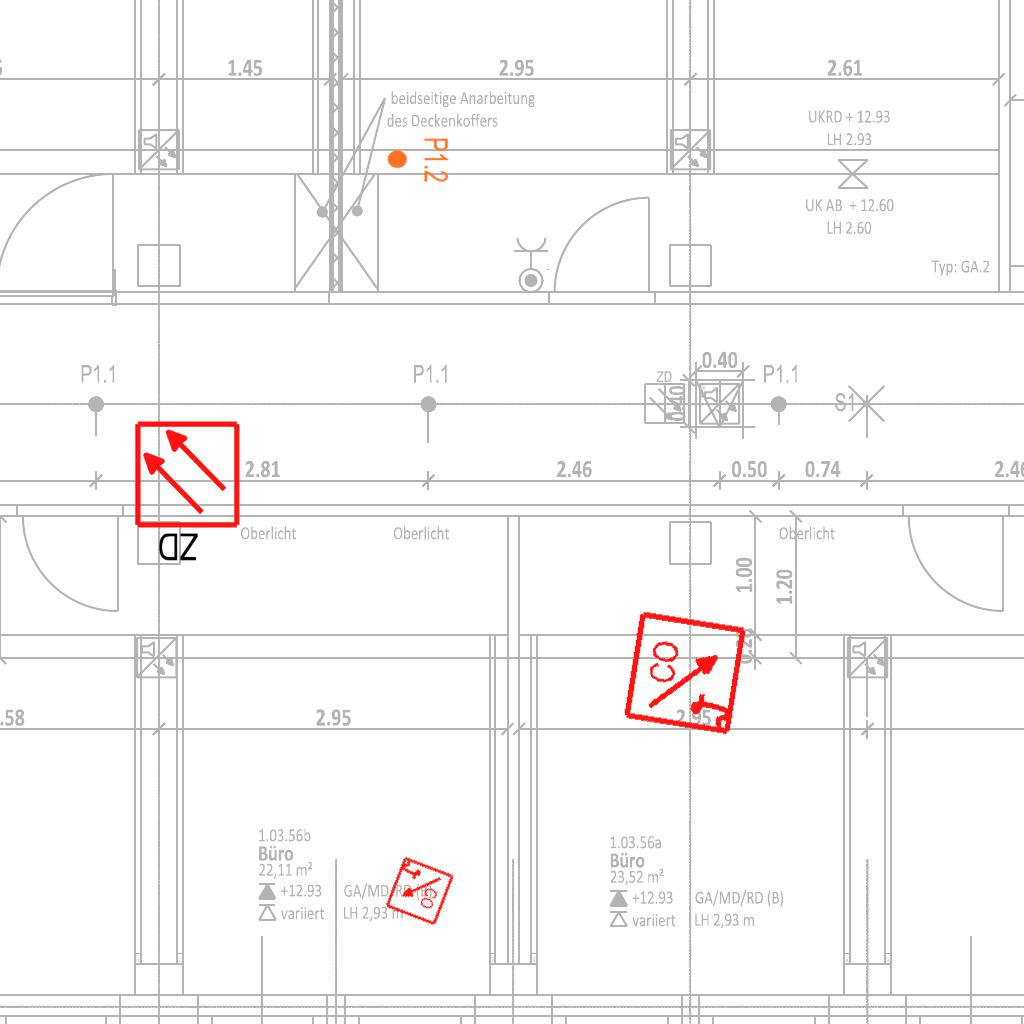Downlight_LED_Einbauleuchten_Flur: (386, 137, 450, 183)
ROA_Rauchmelder_optisch_mit_Signalgeber_(Sockelsirene): (621, 607, 752, 738), (382, 854, 456, 928)
ZD_Melder_in_Zwischendecke_mit_Revisionsoeffnung_mind_40_x_40_cm: (132, 419, 246, 568)
